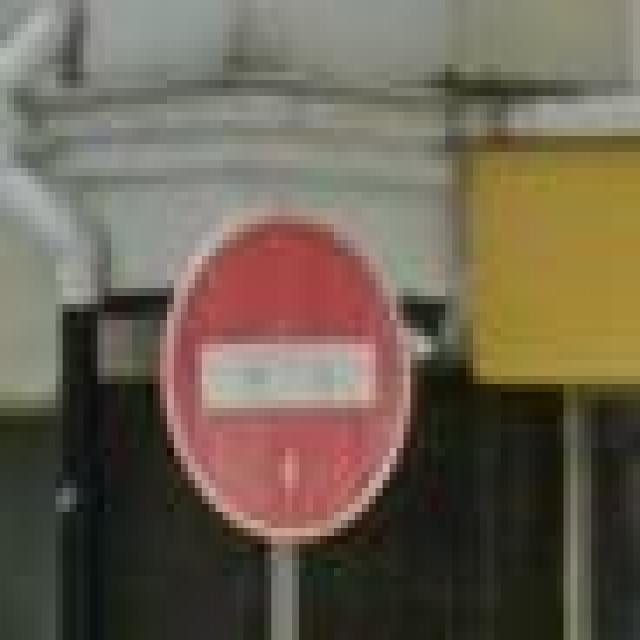traffic_sign: (160, 200, 410, 536)
